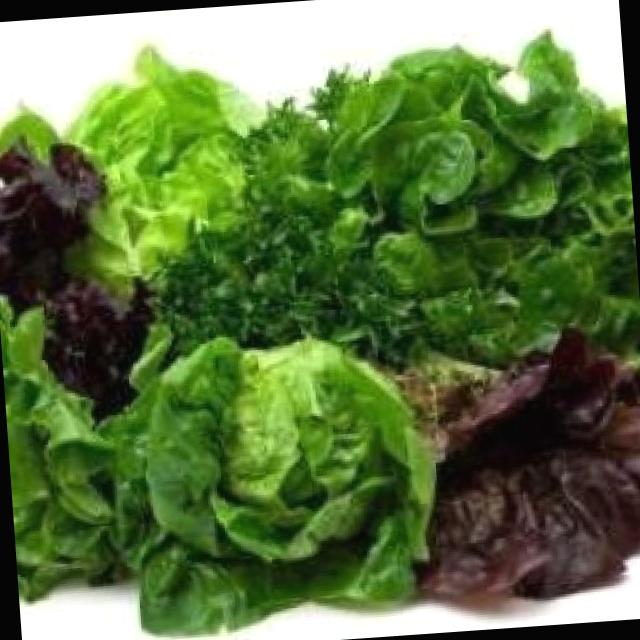Lettuce-Ready-to-Harvest: (155, 34, 640, 363), (0, 306, 434, 632), (397, 330, 640, 601), (0, 47, 258, 283), (0, 143, 152, 415)
